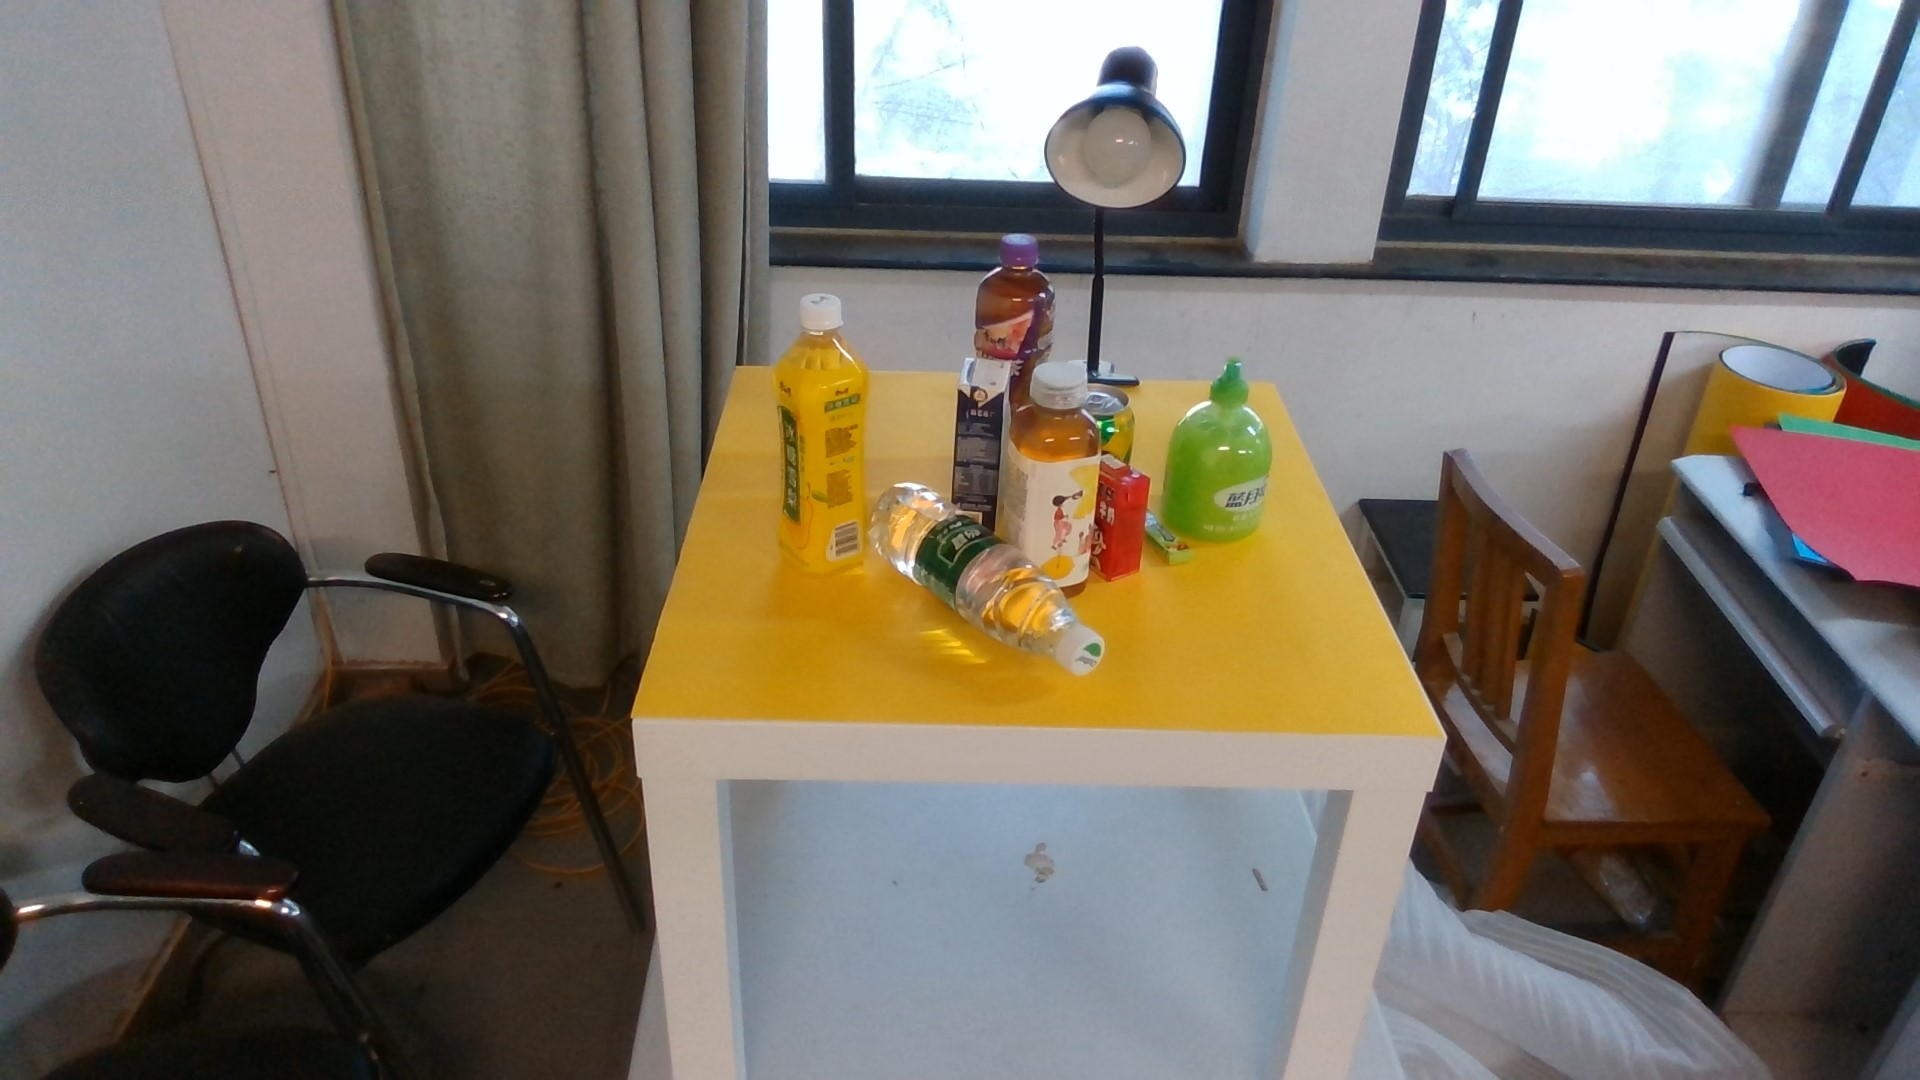BB002: (1149, 520, 1188, 562)
BB010: (953, 356, 1007, 513)
BB012: (1098, 450, 1151, 582)
ZA002: (1193, 353, 1273, 545)
ZC001: (1097, 378, 1130, 454)
ZC009: (977, 231, 1058, 363)
ZC011: (775, 295, 870, 578)
ZC012: (1011, 360, 1098, 553)
ZC017: (873, 546, 1105, 671)
